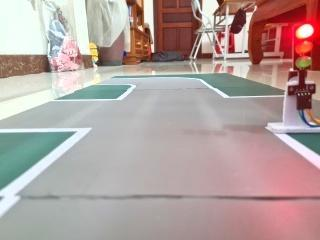red: (289, 17, 316, 80)
